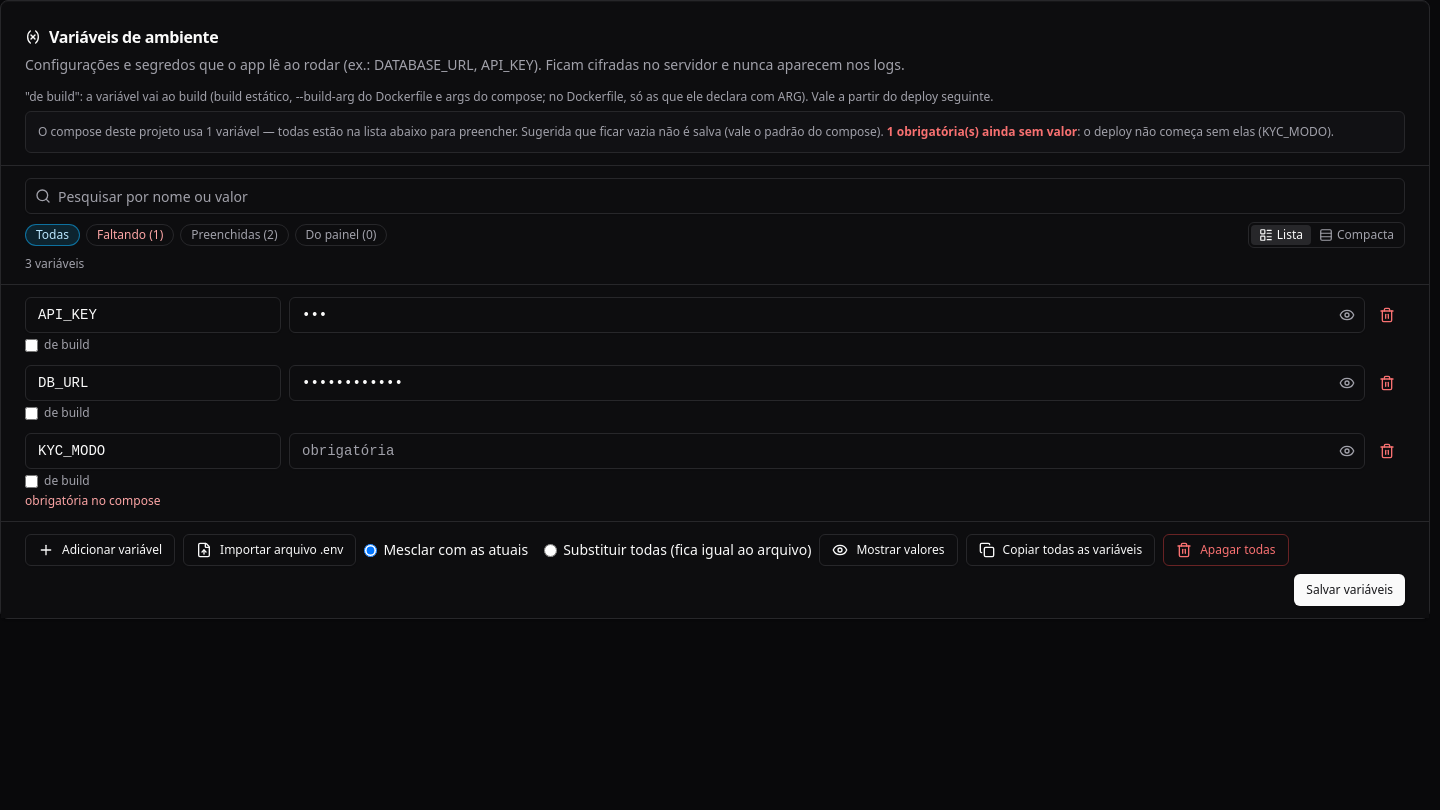
Test case: ProjectEnvCard — mostrar, copiar e apagar tudo › "Apagar todas" pede confirmação, apaga no servidor e volta à lista do compose
Check: the password field showing "abc" is shown, box [289, 297, 1365, 333]
Step 1. Click the button "Apagar todas" → (1226, 550), box [1163, 534, 1289, 566]
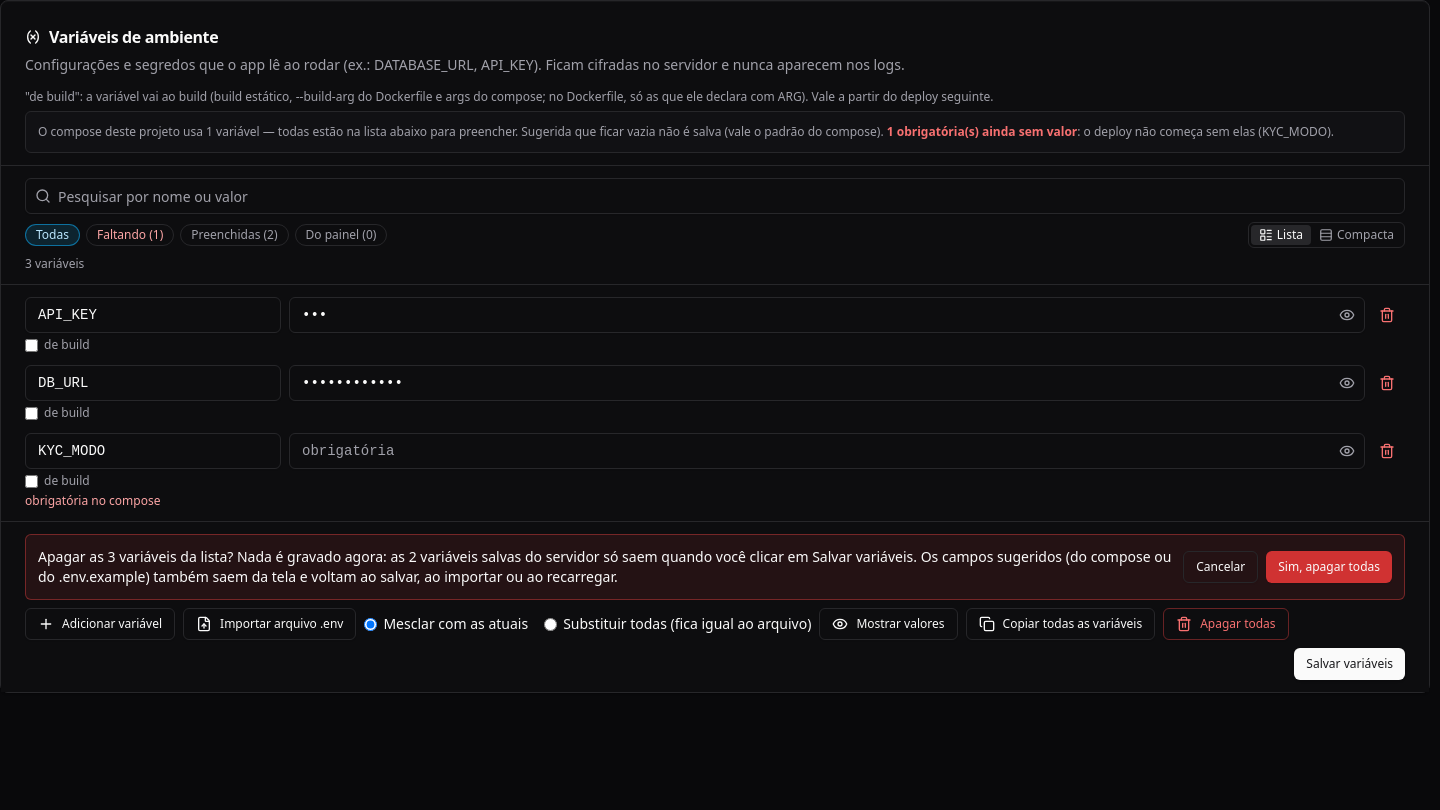
Check: the element with test id "env-clear-confirm" shows "2 variáveis salvas", box [227, 547, 917, 566]
Step 2. Click the button "Sim, apagar todas" → (1329, 567), box [1266, 551, 1392, 583]
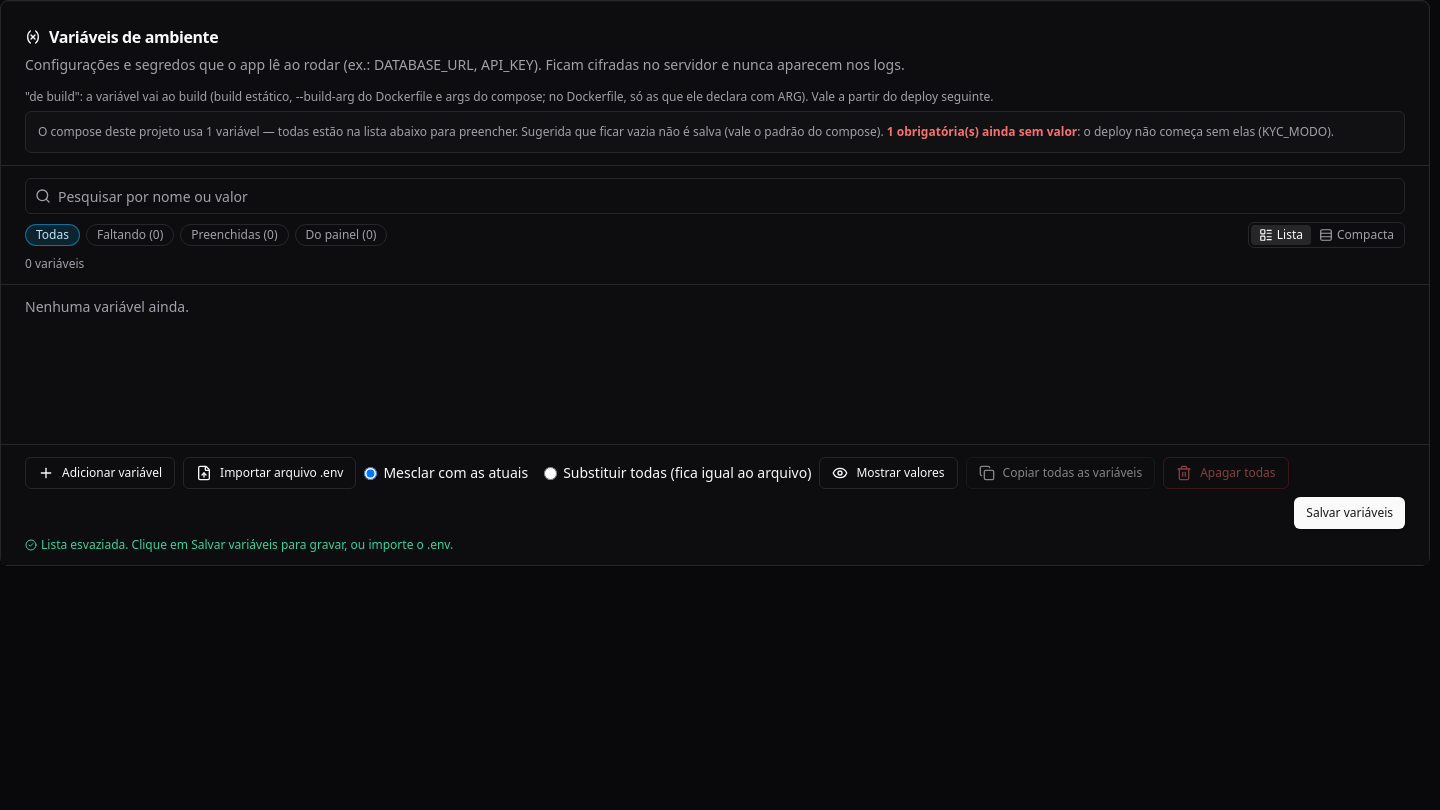
Step 3. Click the button "Salvar variáveis" → (1350, 513), box [1294, 497, 1405, 529]
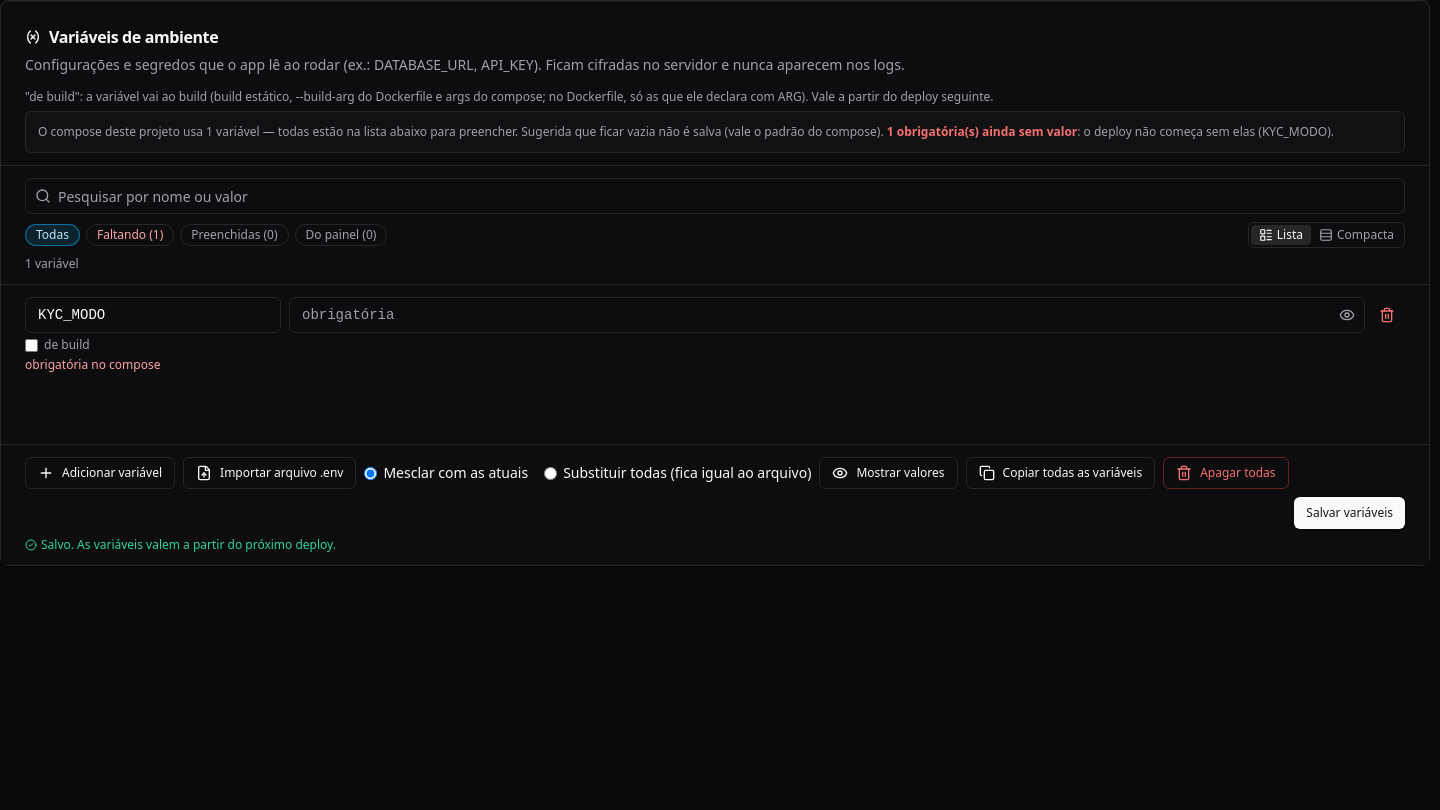
Check: the field showing "KYC_MODO" is shown, box [25, 297, 281, 333]
